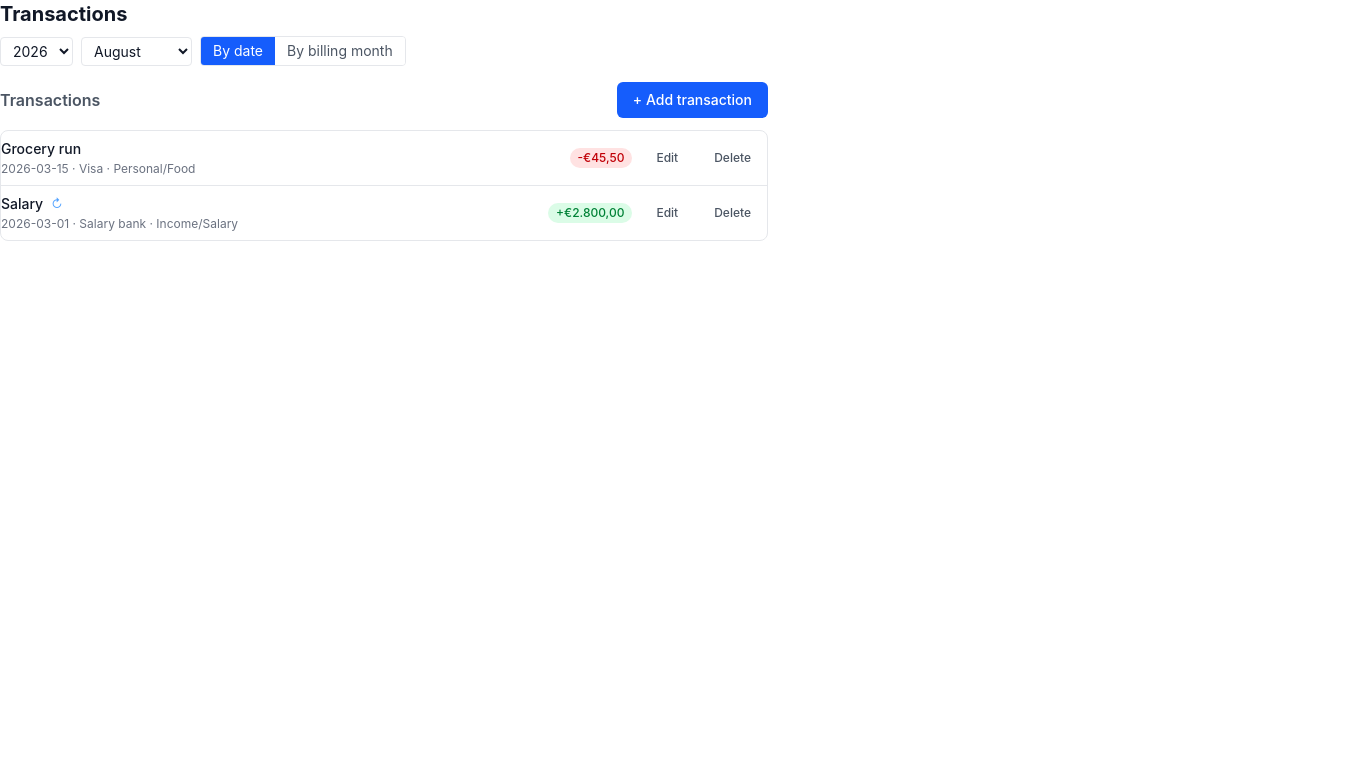
Test: TransactionsPage opens add form when button clicked
Click the button "+ Add transaction" at (692, 100), box [617,82,768,118]
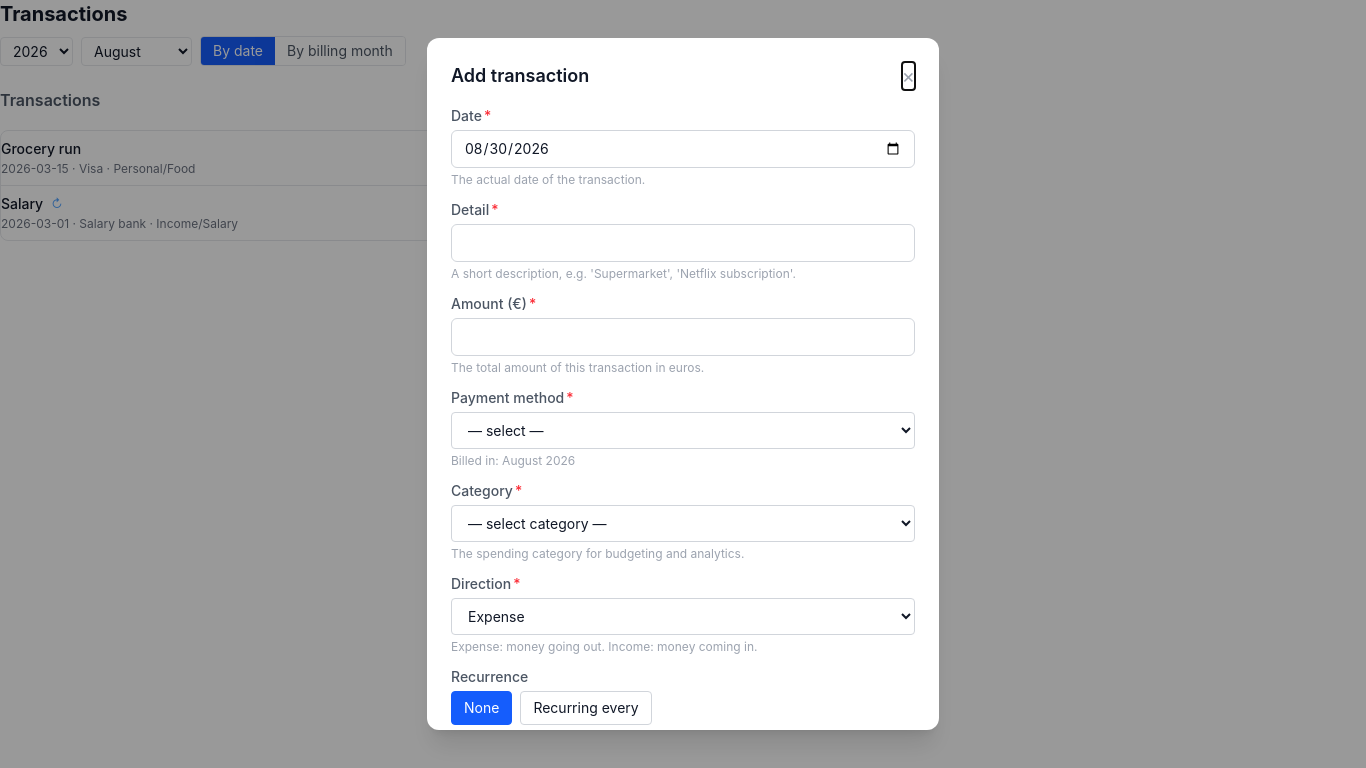
Expected: the dialog is shown, [427,38,939,730]
